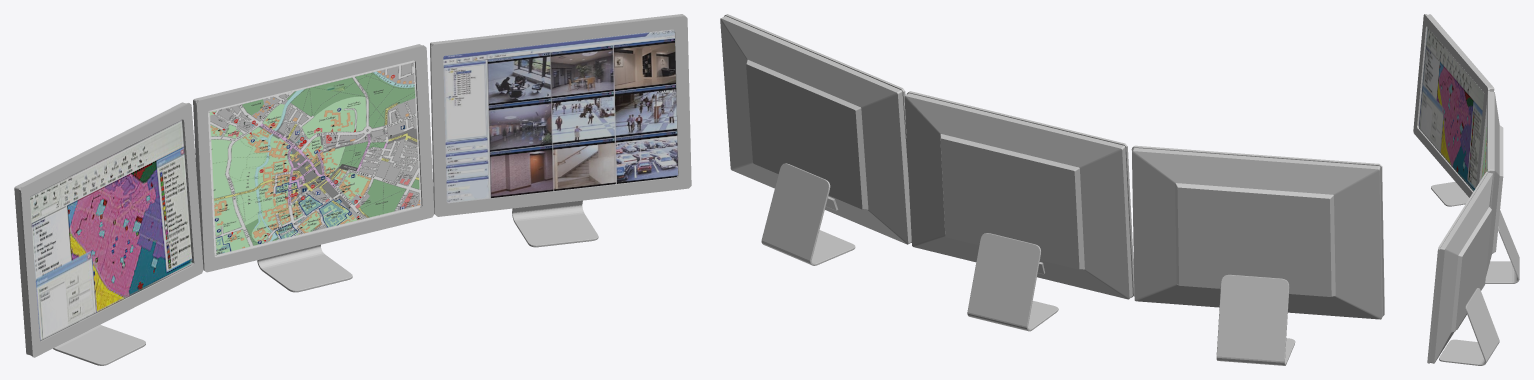
The model's file is Monitors 2.FBX.
3 renders of one model, left to right at view 1: azimuth 30°, elevation 25°; view 2: azimuth 150°, elevation 25°; view 3: azimuth 270°, elevation 25°, orthographic. The views are drawn at different scales.
Visible parts, largest first — view 1: Monitors 1; view 2: Monitors 1; view 3: Monitors 1.
Boxes of the visible parts, x1,y1,x2,y2 form: Monitors 1: (14,14,691,365); Monitors 1: (720,14,1384,365); Monitors 1: (1413,14,1519,365).
Bounding box in the file's own units: 164 × 46.91 × 31.39.
